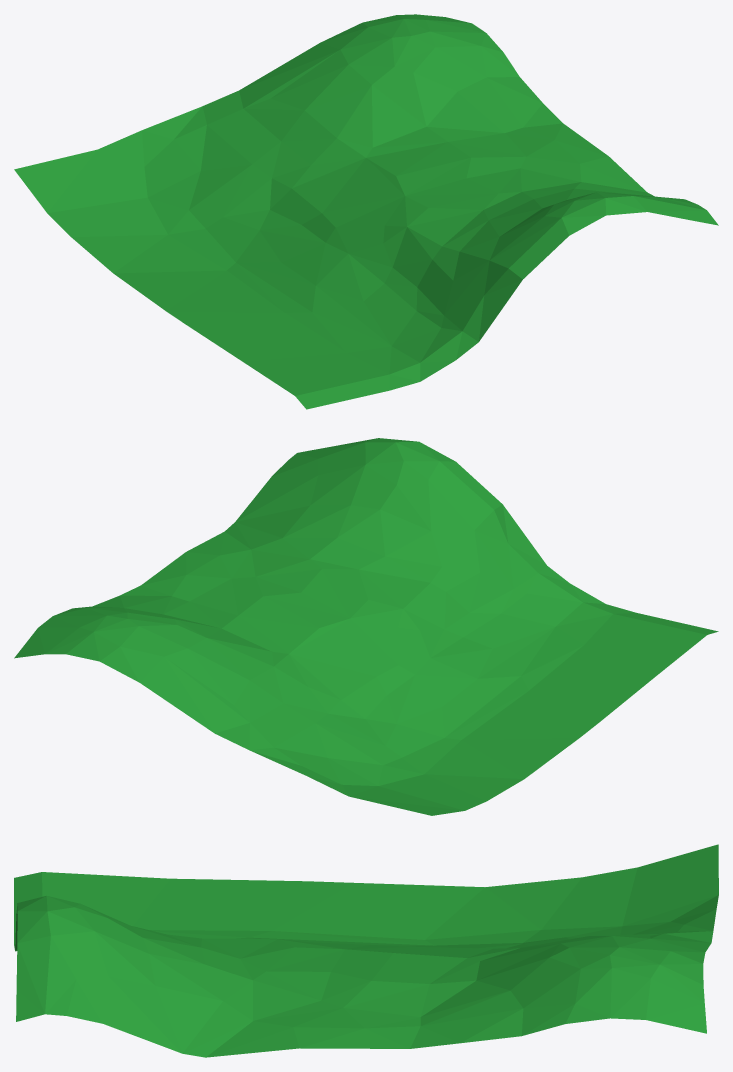
The model's file is Field_L1.fbx.
3 renders of one model, top to bottom at view 1: azimuth 30°, elevation 25°; view 2: azimuth 150°, elevation 25°; view 3: azimuth 270°, elevation 25°, orthographic. The views are drawn at different scales.
Visible parts, largest first — view 1: L1; view 2: L1; view 3: L1.
Boxes of the visible parts, box(x1,y1,x2,y2) form: L1: box(14, 14, 718, 409); L1: box(14, 438, 718, 815); L1: box(14, 844, 718, 1057).
Bounding box in the file's own units: 2585 × 763 × 3046.
